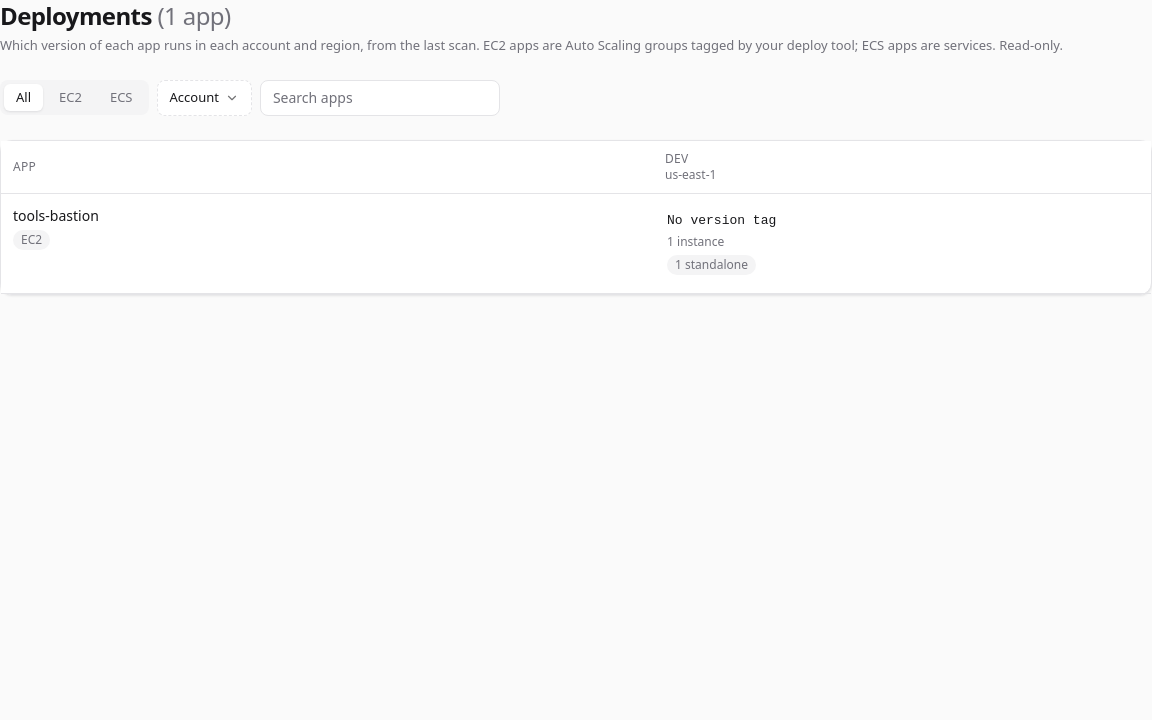
Test: Deployments › marks instances in no ASG and describes them in the drawer
The image size is (1152, 720).
Expected: the text "1 standalone" is shown, left=667, top=255, right=756, bottom=275
Step 1. Click the text "No version tag" → [722, 221], box left=667, top=212, right=776, bottom=230
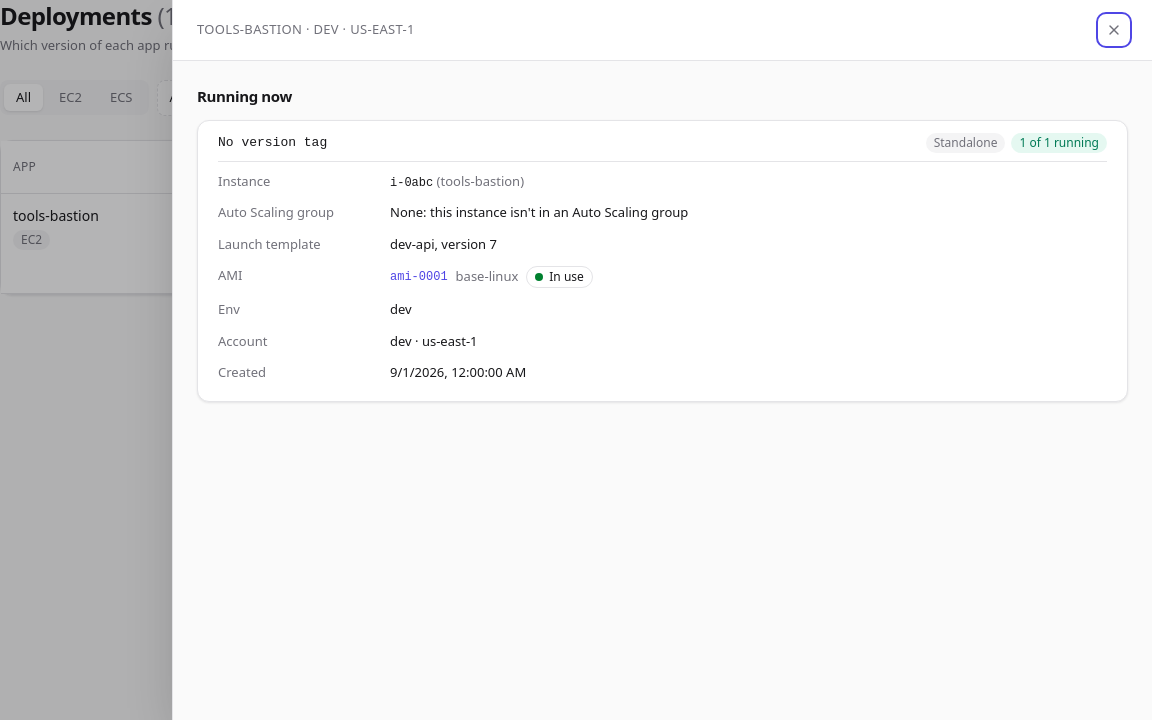
Expected: the text "i-0abc" is shown, left=390, top=176, right=433, bottom=190
Expected: the text "None: this instance isn't in an Auto Scaling group" is shown, left=390, top=203, right=688, bottom=221
